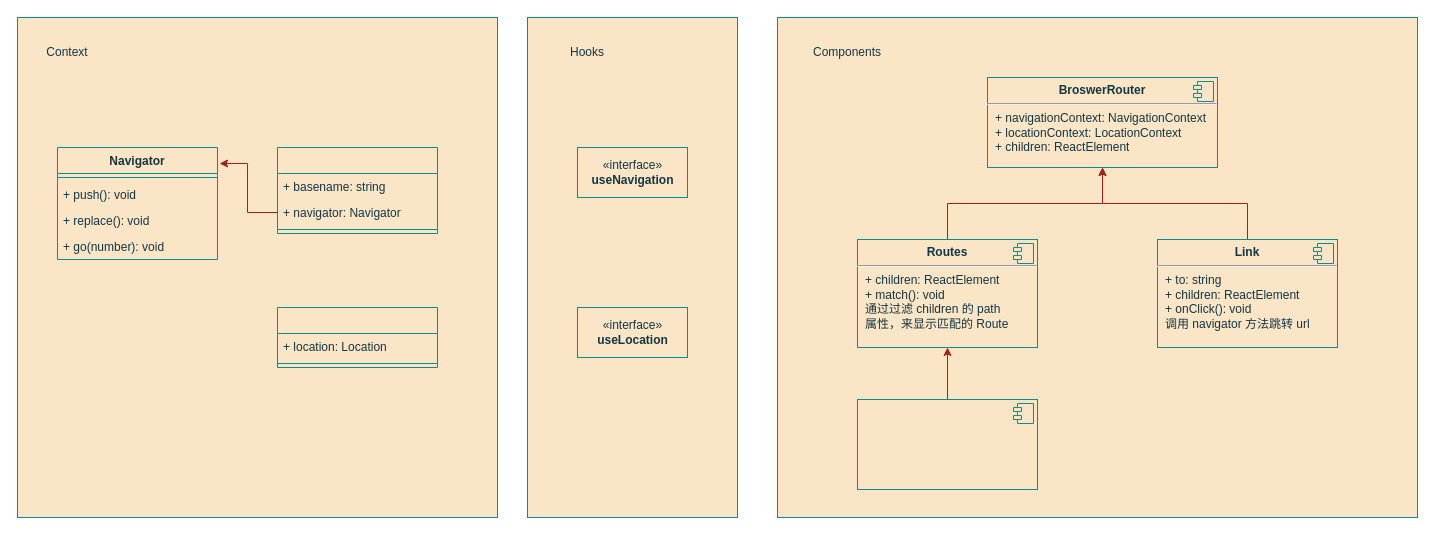
This 1435x535 diagram has some shape labels left out. The shapes that lost their labels are listed below. From the top down, each one's box as (x1, y1, x2, y2) in pixels, then its label:
(276, 146, 438, 234): NavigationContext
(276, 306, 438, 368): LocationContext
(856, 398, 1038, 490): Route + path: string + component: ReactElement
